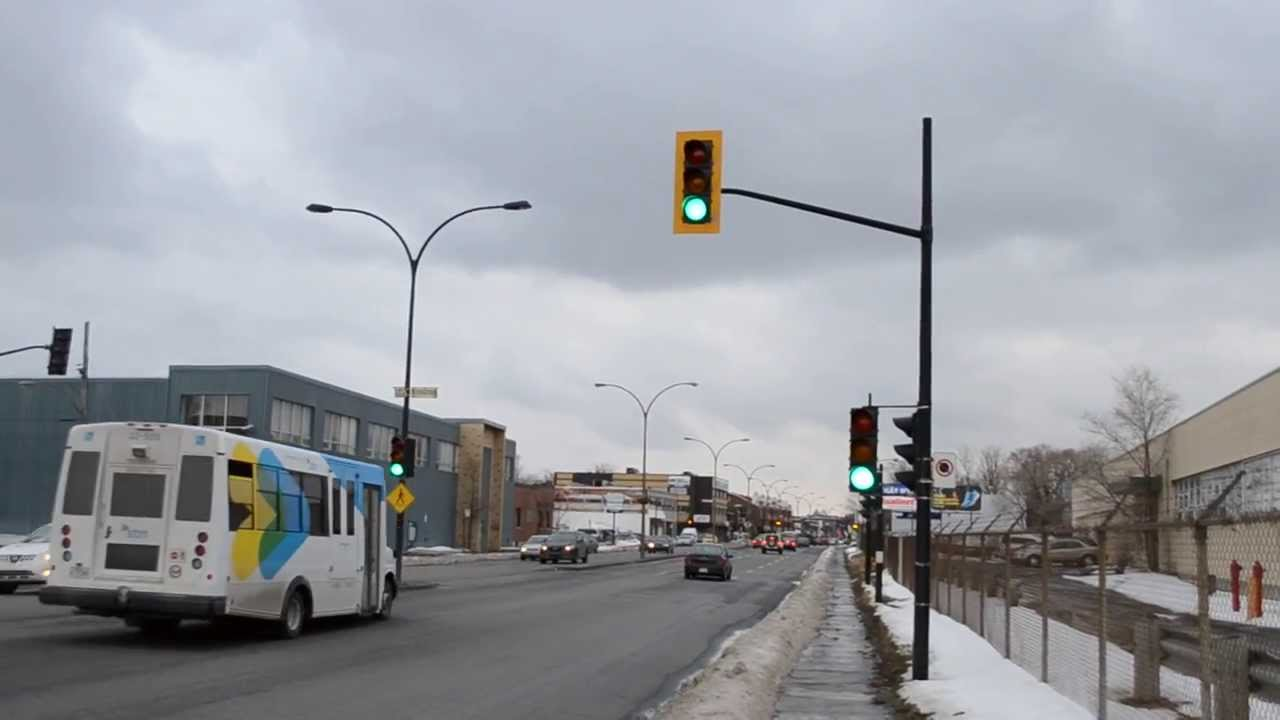traffic_light: (679, 136, 715, 227), (847, 405, 880, 495)
